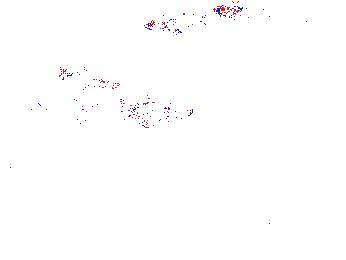glassfish: (1, 92, 70, 138), (66, 97, 148, 130)
red belly glassfish: (212, 3, 269, 19), (285, 16, 315, 36)
redtail glassfish: (122, 97, 196, 121), (143, 9, 210, 32), (60, 67, 122, 91), (33, 100, 80, 126)
